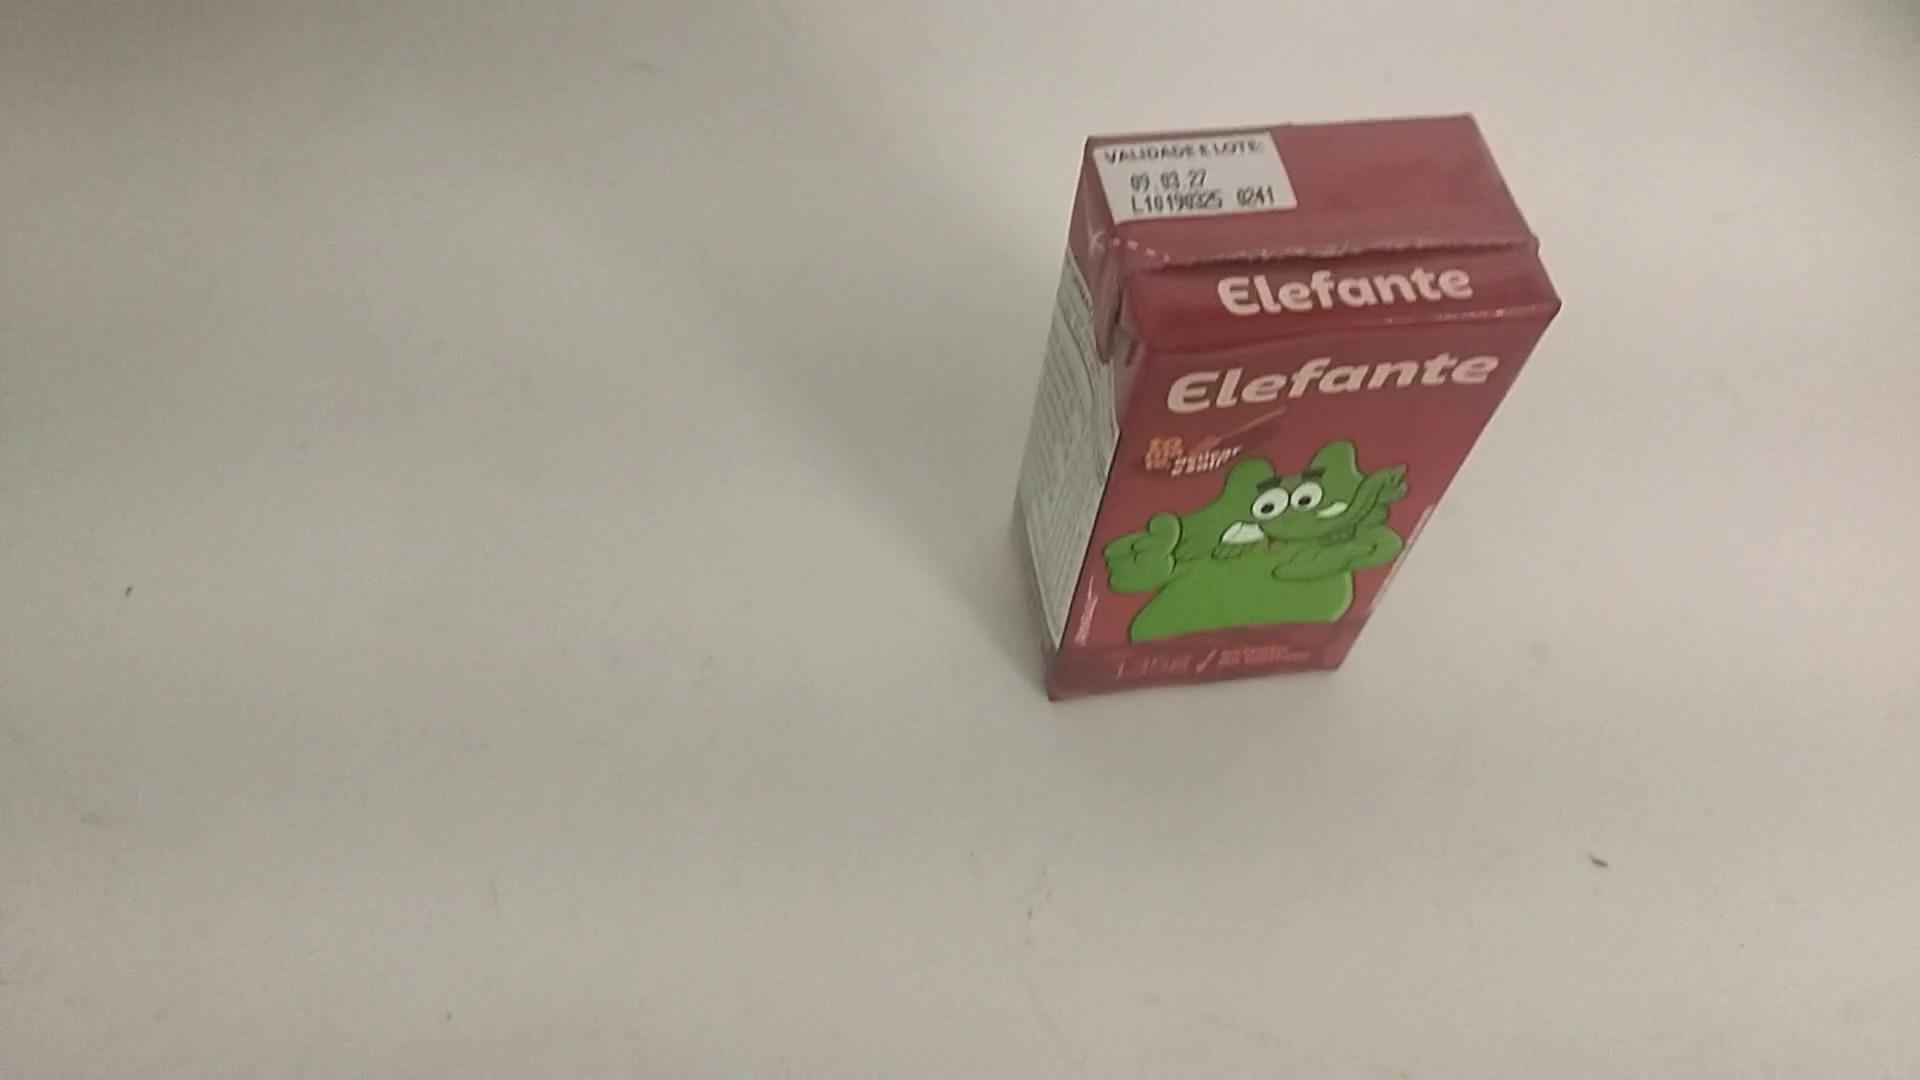tomate: (1000, 108, 1564, 721)
